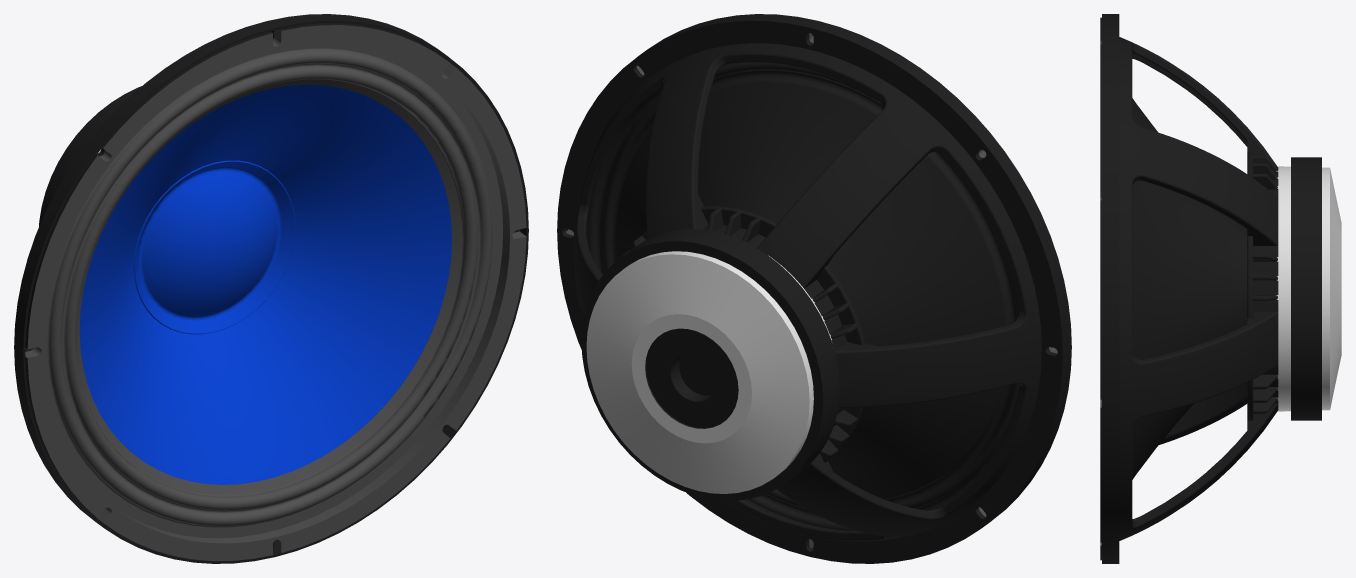
Rendered from BC_18PZB100.glb.
The picture shows the model from 3 angles, left to right: view 1: azimuth 30°, elevation 25°; view 2: azimuth 150°, elevation 25°; view 3: azimuth 270°, elevation 25°; orthographic projection. The views are drawn at different scales.
Parts seen in each view (by area): view 1: B&C 18PZB100; view 2: B&C 18PZB100; view 3: B&C 18PZB100.
Part boxes in pixels (<box>): B&C 18PZB100: <box>14,14,528,563</box>; B&C 18PZB100: <box>557,14,1071,563</box>; B&C 18PZB100: <box>1100,14,1341,563</box>.
Bounding box in the file's own units: 0.46 × 0.46 × 0.202.
